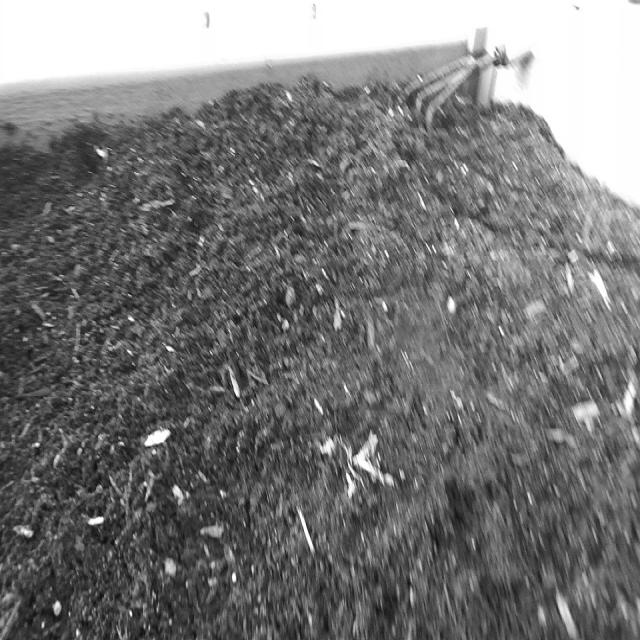Unhealthy: (314, 422, 400, 510)
